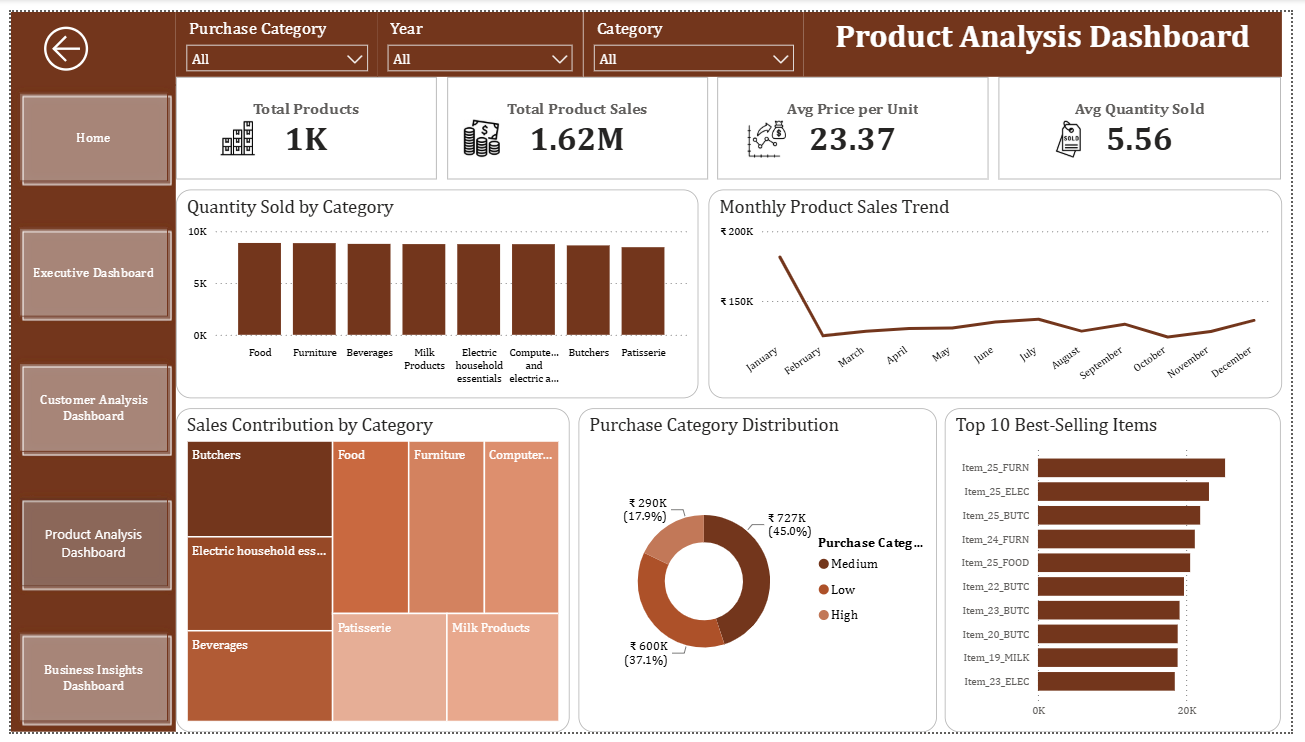

This screenshot's page, from the dashboard's own definition file:
{"tool":"powerbi","page":{"name":"Product Analysis Dashboard","canvas":[1280,720],"ordinal":3},"visuals":[{"type":"textbox","box":[792.4,0,478.1,64.8],"z":0},{"type":"cardVisual","fields":{"Data":["Dim_Product.Total Products"]},"box":[165.1,64.8,260.5,102.7],"z":1000},{"type":"cardVisual","fields":{"Data":["Sum(Retail_Sales.Total Spent)"]},"box":[436.6,64.8,260.5,102.7],"z":2000},{"type":"cardVisual","fields":{"Data":["Retail_Sales.Average Price per Unit"]},"box":[706.8,64.8,271.5,102.7],"z":3000},{"type":"cardVisual","fields":{"Data":["Dim_Product.Average Quantity Sold"]},"box":[988,64.8,282.5,102.7],"z":4000},{"type":"slicer","fields":{"Values":["Retail_Sales.Purchase Category"]},"box":[165.1,0,201.8,64.8],"z":5000},{"type":"slicer","fields":{"Values":["Retail_Sales.Category"]},"box":[572.3,0,220.1,64.8],"z":6000},{"type":"slicer","fields":{"Values":["Retail_Sales.Transaction Date.Variation.Date Hierarchy.Year"]},"box":[366.8,0,205.4,64.8],"z":7000},{"type":"barChart","title":"Top 10 Best-Selling Items","fields":{"Category":["Dim_Product.Items"],"Y":["Sum(Retail_Sales.Total Spent)"]},"box":[934.2,396.2,336.3,324.1],"z":8000},{"type":"treemap","title":"Sales Contribution by Category","fields":{"Group":["Dim_Product.Category"],"Values":["Dim_Product.Total Sales"]},"box":[165.1,396.2,393.8,324.1],"z":9000},{"type":"donutChart","title":"Purchase Category Distribution","fields":{"Category":["Retail_Sales.Purchase Category"],"Y":["Dim_Product.Total Sales"]},"box":[567.4,396.2,358.3,324.1],"z":10000},{"type":"clusteredColumnChart","title":"Quantity Sold by Category","fields":{"Category":["Retail_Sales.Category"],"Y":["Retail_Sales.Total Quantity Sold"]},"box":[165.1,177.3,522.1,209.1],"z":11000},{"type":"lineChart","title":"Monthly Product Sales Trend","fields":{"Category":["Retail_Sales.Transaction Date.Variation.Date Hierarchy.Month"],"Y":["Dim_Product.Total Sales"]},"box":[697,177.3,573.5,209.1],"z":12000},{"type":"image","box":[206.7,107.6,40.4,37.9],"z":13000},{"type":"image","box":[448.8,107.6,42.8,37.9],"z":14000},{"type":"image","box":[734.9,108.8,41.6,36.7],"z":15000},{"type":"image","box":[1032.1,108.8,50.1,36.7],"z":16000},{"type":"pageNavigator","box":[0,73.1,165.1,646.9],"z":17000},{"type":"actionButton","box":[0,0,165.1,73.4],"z":18000}]}

Visuals, with their boxes in screenshot pixels (x1, y1, x2, y2), scaled from the page's 1280x720 canvas onto the 1305x742 screenshot:
textbox: l=808, t=0, r=1295, b=67
cardVisual - Dim_Product.Total Products: l=168, t=67, r=434, b=173
cardVisual - Sum(Retail_Sales.Total Spent): l=445, t=67, r=711, b=173
cardVisual - Retail_Sales.Average Price per Unit: l=721, t=67, r=997, b=173
cardVisual - Dim_Product.Average Quantity Sold: l=1007, t=67, r=1295, b=173
slicer - Retail_Sales.Purchase Category: l=168, t=0, r=374, b=67
slicer - Retail_Sales.Category: l=583, t=0, r=808, b=67
slicer - Retail_Sales.Transaction Date.Variation.Date Hierarchy.Year: l=374, t=0, r=583, b=67
"Top 10 Best-Selling Items" barChart: l=952, t=408, r=1295, b=741
"Sales Contribution by Category" treemap: l=168, t=408, r=570, b=741
"Purchase Category Distribution" donutChart: l=578, t=408, r=944, b=741
"Quantity Sold by Category" clusteredColumnChart: l=168, t=183, r=701, b=398
"Monthly Product Sales Trend" lineChart: l=711, t=183, r=1295, b=398
image: l=211, t=111, r=252, b=150
image: l=458, t=111, r=501, b=150
image: l=749, t=112, r=792, b=150
image: l=1052, t=112, r=1103, b=150
pageNavigator: l=0, t=75, r=168, b=741
actionButton: l=0, t=0, r=168, b=76
